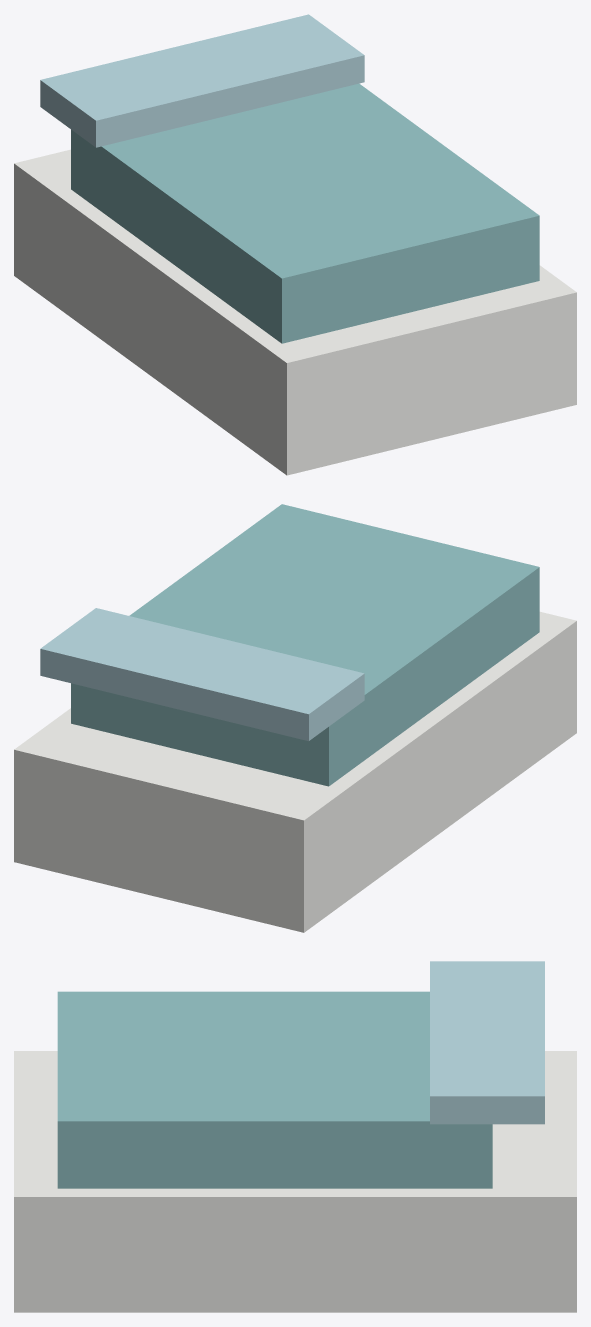
File: dream_pod.glb
The picture shows the model from 3 angles, top to bottom: view 1: azimuth 30°, elevation 25°; view 2: azimuth 150°, elevation 25°; view 3: azimuth 270°, elevation 25°; orthographic projection. The views are drawn at different scales.
Parts seen in each view (by area): view 1: part_01, part_00, part_02; view 2: part_00, part_01, part_02; view 3: part_00, part_01, part_02.
Boxes of the visible parts, x1,y1,x2,y2 form: part_01: (71, 83, 539, 343); part_00: (14, 149, 576, 475); part_02: (40, 14, 364, 147); part_00: (14, 611, 576, 932); part_01: (71, 504, 539, 786); part_02: (40, 608, 364, 741); part_00: (14, 1051, 576, 1312); part_01: (57, 991, 492, 1188); part_02: (430, 961, 544, 1124).
Bounding box in the file's own units: 1.35 × 0.91 × 2.2.
